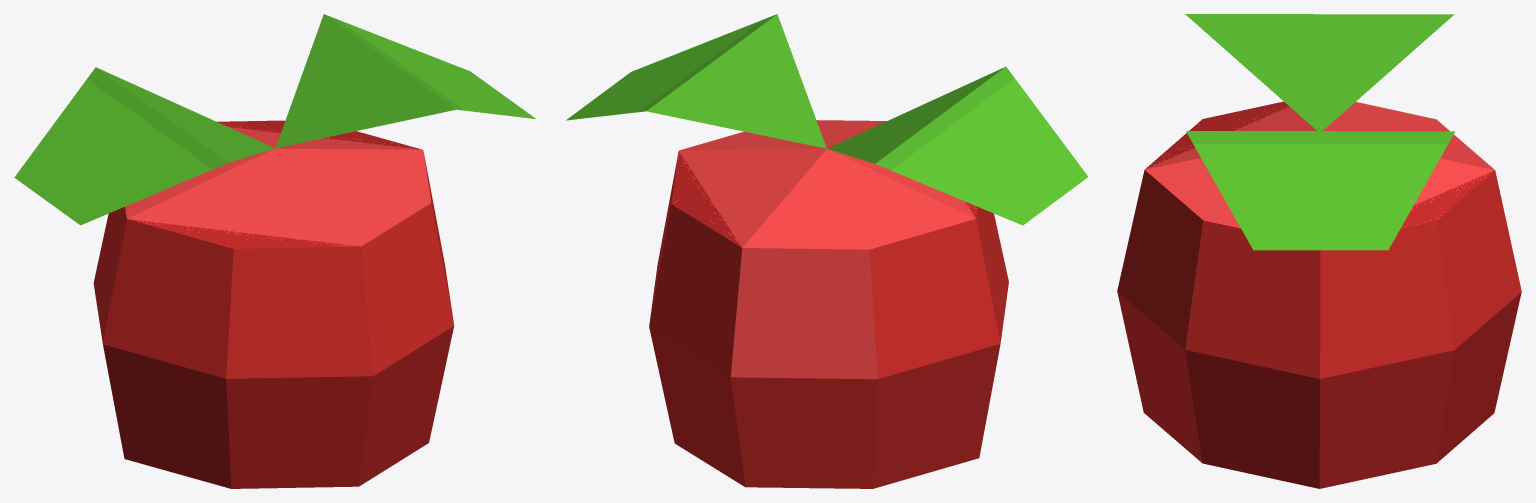
Rendered from Tomato_001-5.fbx.
The picture shows the model from 3 angles, left to right: view 1: azimuth 30°, elevation 25°; view 2: azimuth 150°, elevation 25°; view 3: azimuth 270°, elevation 25°; orthographic projection. The views are drawn at different scales.
Parts seen in each view (by area): view 1: Tomato_001-5; view 2: Tomato_001-5; view 3: Tomato_001-5.
Boxes of the visible parts, bbox=[...] form: Tomato_001-5: bbox=[14, 14, 535, 488]; Tomato_001-5: bbox=[566, 14, 1088, 488]; Tomato_001-5: bbox=[1117, 14, 1521, 488].
Bounding box in the file's own units: 25.02 × 19.47 × 18.75.
1 material, 1 textured.
